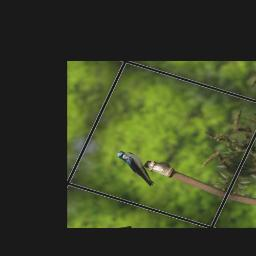Swallow: (107, 148, 166, 188)
